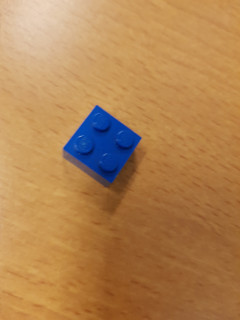2x2 blue: (60, 103, 143, 190)
